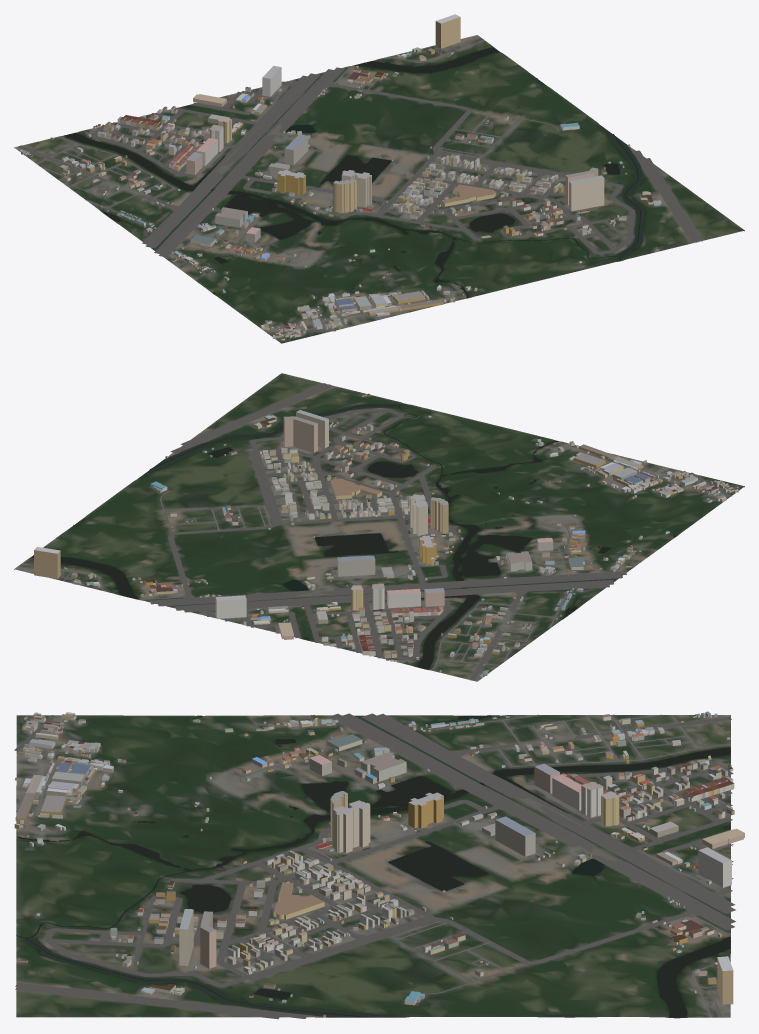
3 views of the same model, one above another, from view 1: azimuth 30°, elevation 25°; view 2: azimuth 150°, elevation 25°; view 3: azimuth 270°, elevation 25° (orthographic). The views are drawn at different scales.
Visible parts, largest first — view 1: ground, buildings, roads, water; view 2: ground, buildings, roads, water; view 3: ground, buildings, roads, water.
Part boxes in pixels (x1,y1,x2,y2): ground: (14,35,744,343); buildings: (19,14,661,340); roads: (17,37,702,333); water: (64,47,645,297); ground: (14,373,744,681); buildings: (34,393,738,677); roads: (17,383,731,680); water: (31,403,676,669); ground: (16,715,730,1018); buildings: (14,711,744,1017); roads: (14,713,735,1019); water: (16,715,730,1017).
Size of the model in its own units: 1418 by 87.18 by 1433.
